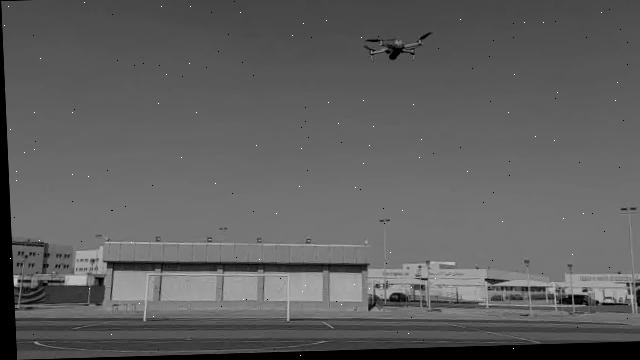drone: (361, 33, 434, 65)
